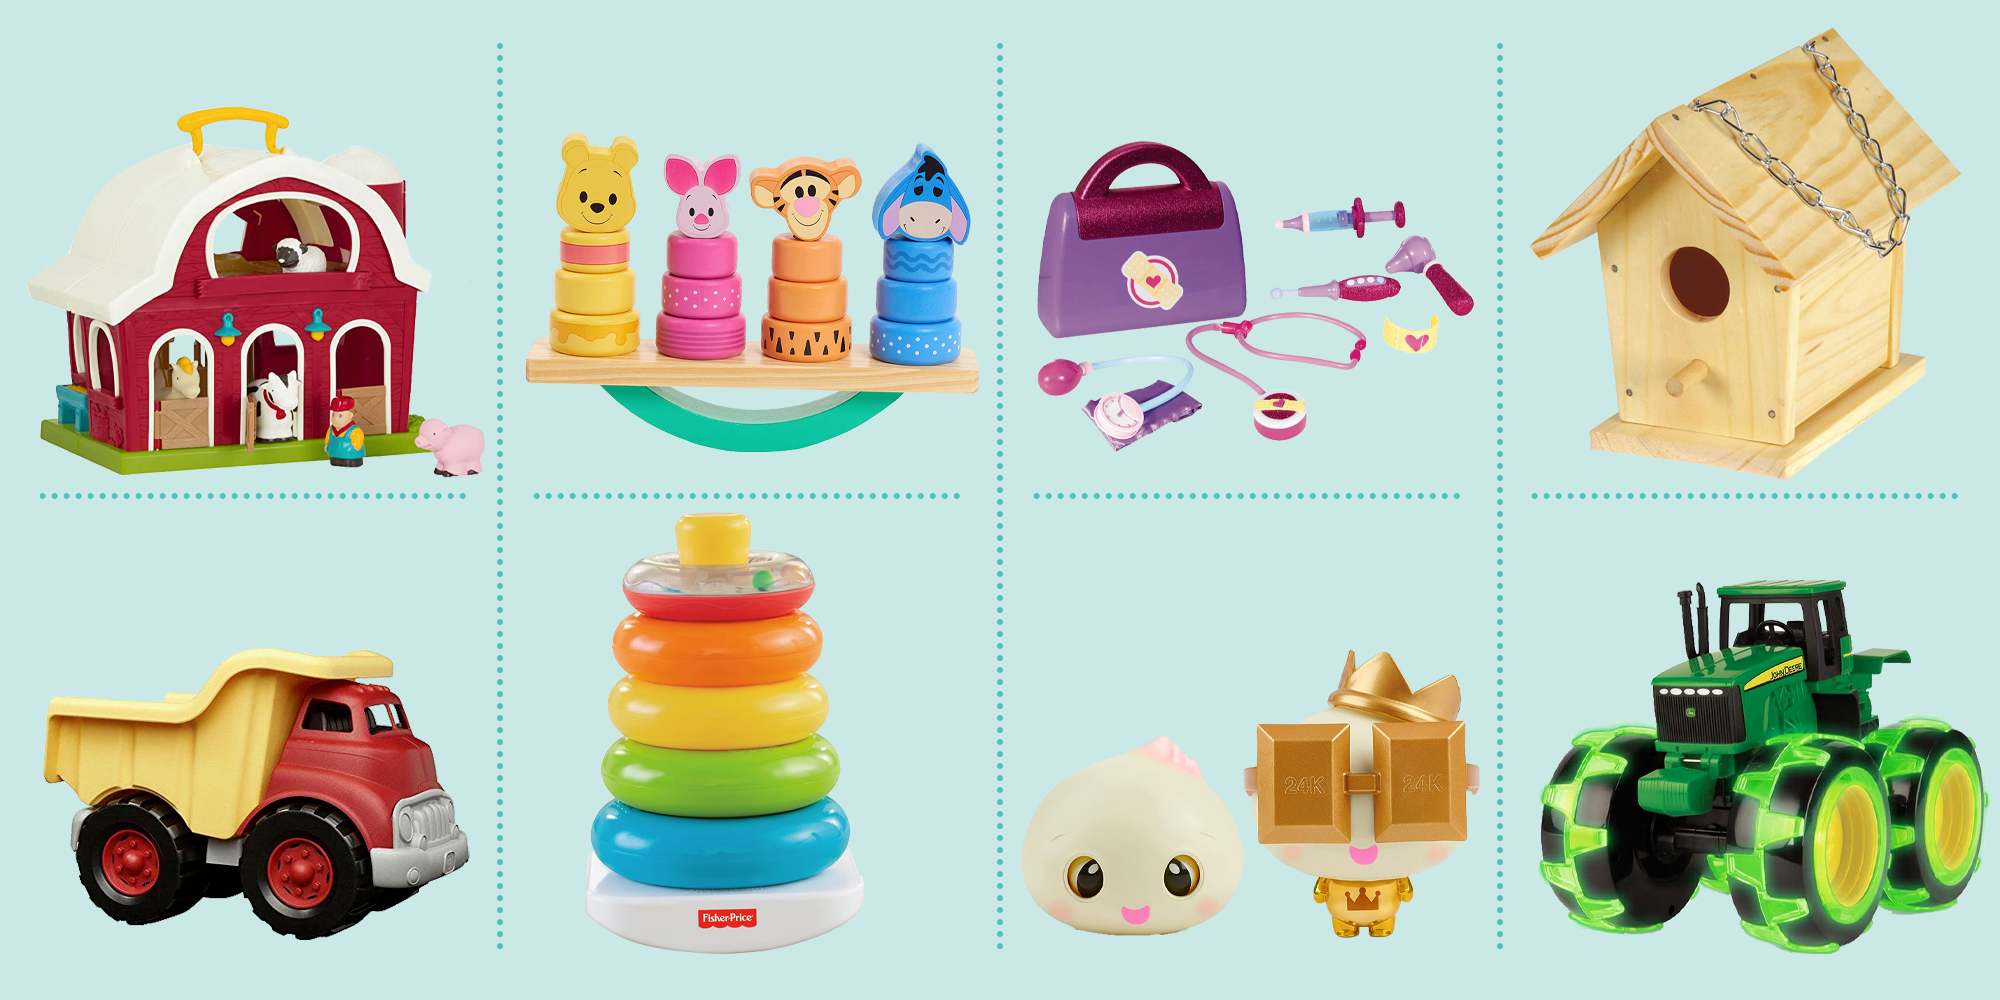toy: (40, 611, 492, 967)
